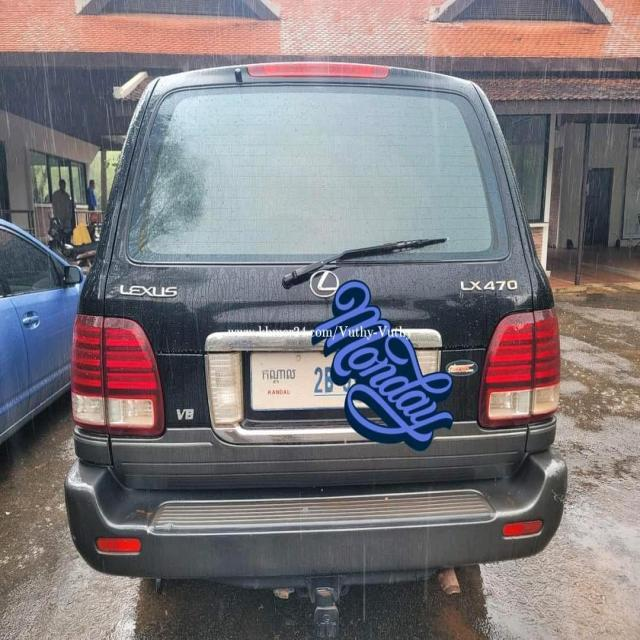Kandal: (262, 368, 296, 385)
